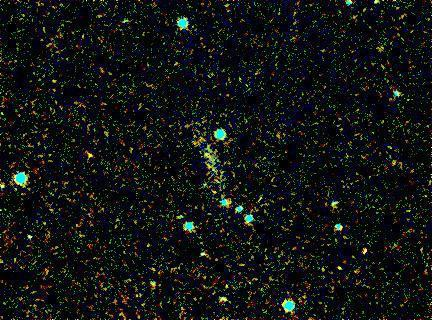star: (352, 238, 382, 268)
